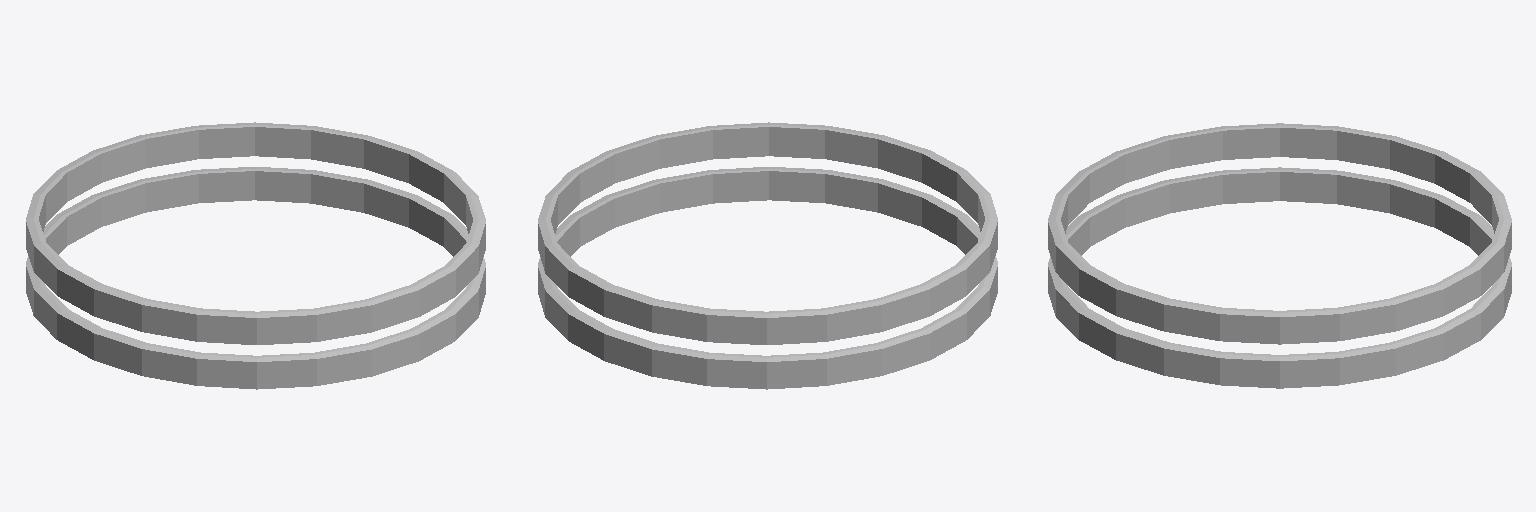
File: tinker (3).obj
3 views of the same model, side by side, from view 1: azimuth 30°, elevation 25°; view 2: azimuth 150°, elevation 25°; view 3: azimuth 270°, elevation 25° (orthographic).
Parts seen in each view (by area): view 1: obj_0; view 2: obj_0; view 3: obj_0.
Part boxes in pixels (x1,y1,x2,y2): obj_0: (26,122,485,389); obj_0: (538,122,997,389); obj_0: (1048,123,1511,388).
Size of the model in its own units: 56.62 by 10 by 57.24.